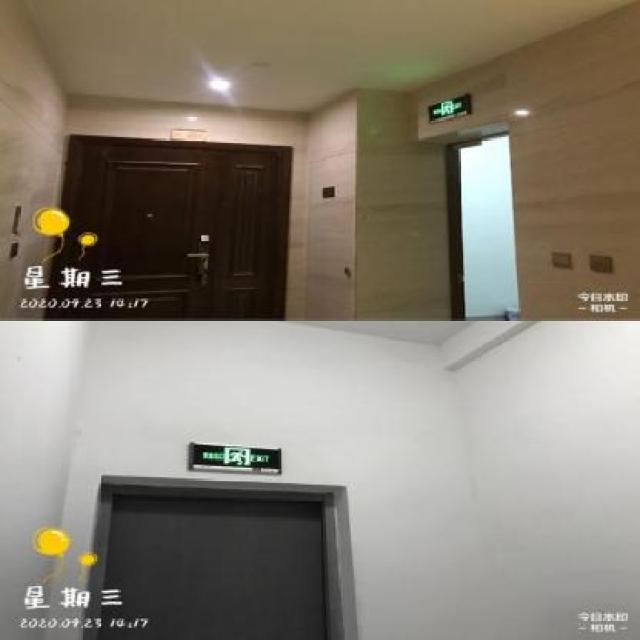exit_sign: (178, 436, 290, 476), (422, 96, 481, 120)
